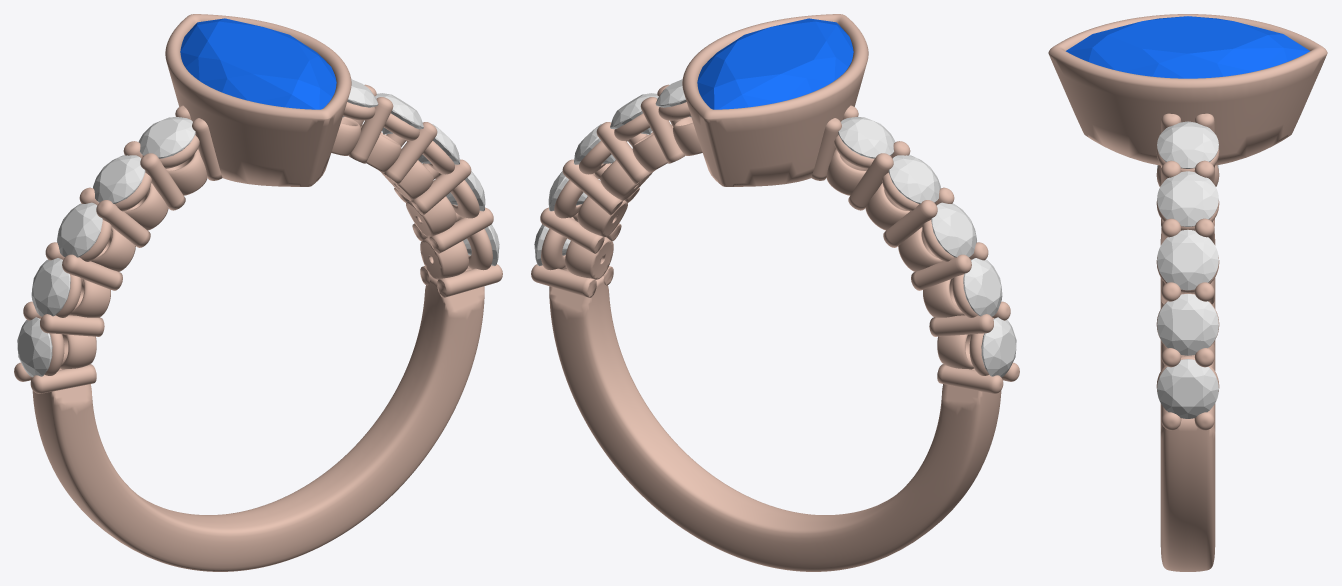
Rendered from bluesapphire-marquise-rosegold-bezelset-straightband-11stone.glb.
The picture shows the model from 3 angles, left to right: view 1: azimuth 30°, elevation 25°; view 2: azimuth 150°, elevation 25°; view 3: azimuth 270°, elevation 25°; orthographic projection.
Visible parts, largest first — view 1: metal.002, stone.002, dia.024, dia.025, dia.023, dia.026, dia.002, dia.030; view 2: metal.002, stone.002, dia.024, dia.025, dia.023, dia.026, dia.002, dia.030; view 3: metal.002, stone.002, dia.028, dia.029, dia.027, dia.030, dia.031.
Boxes of the visible parts, x1,y1,x2,y2 form: metal.002: [14, 14, 502, 571]; stone.002: [180, 18, 336, 109]; dia.024: [57, 202, 102, 257]; dia.025: [93, 155, 145, 203]; dia.023: [31, 258, 70, 316]; dia.026: [138, 117, 195, 158]; dia.002: [17, 317, 52, 377]; dia.030: [375, 93, 423, 134]; metal.002: [531, 14, 1019, 571]; stone.002: [697, 18, 853, 109]; dia.024: [931, 202, 976, 257]; dia.025: [888, 155, 940, 203]; dia.023: [963, 258, 1002, 316]; dia.026: [838, 117, 895, 158]; dia.002: [981, 317, 1016, 377]; dia.030: [610, 93, 658, 134]; metal.002: [1048, 14, 1327, 571]; stone.002: [1066, 16, 1309, 78]; dia.028: [1157, 294, 1218, 355]; dia.029: [1157, 229, 1218, 290]; dia.027: [1157, 359, 1218, 418]; dia.030: [1157, 171, 1218, 226]; dia.031: [1157, 121, 1218, 168].
Bounding box in the file's own units: 22.1 × 22.94 × 11.31.
